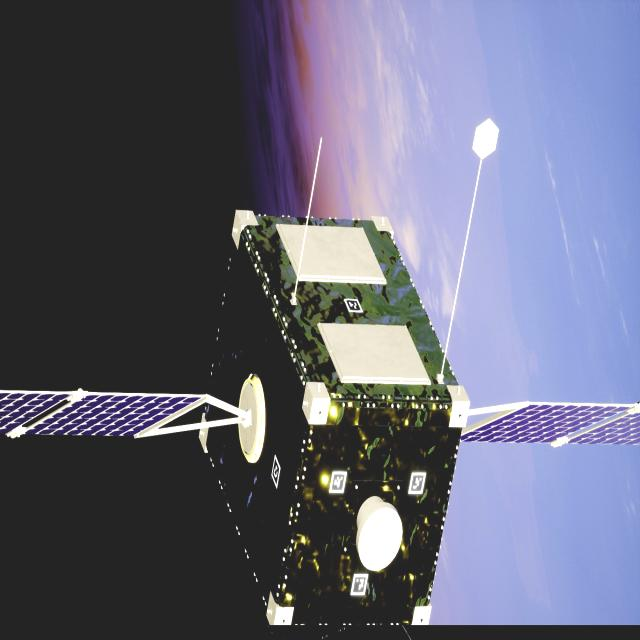satellite: (0, 210, 640, 629)
